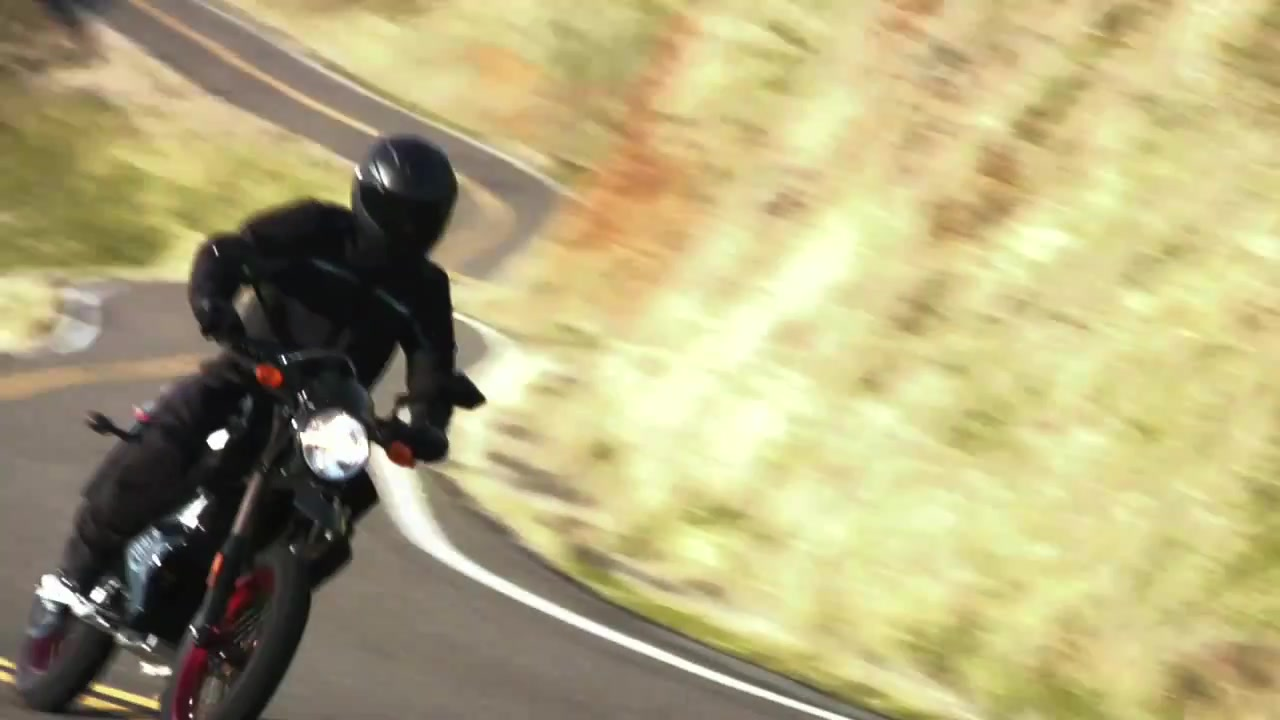motorbike: (15, 232, 484, 720)
